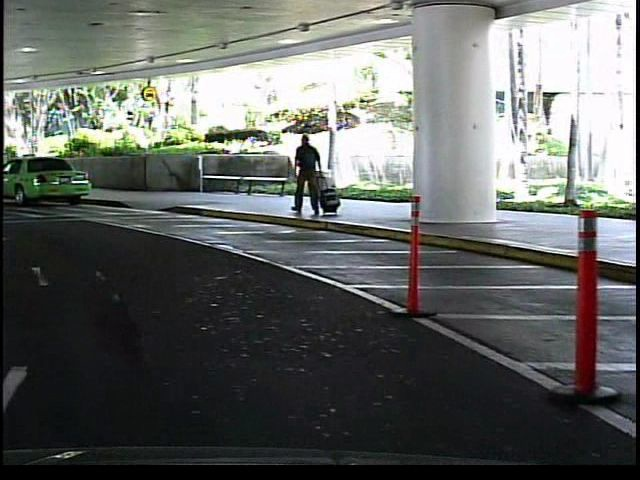person: (288, 126, 327, 222)
